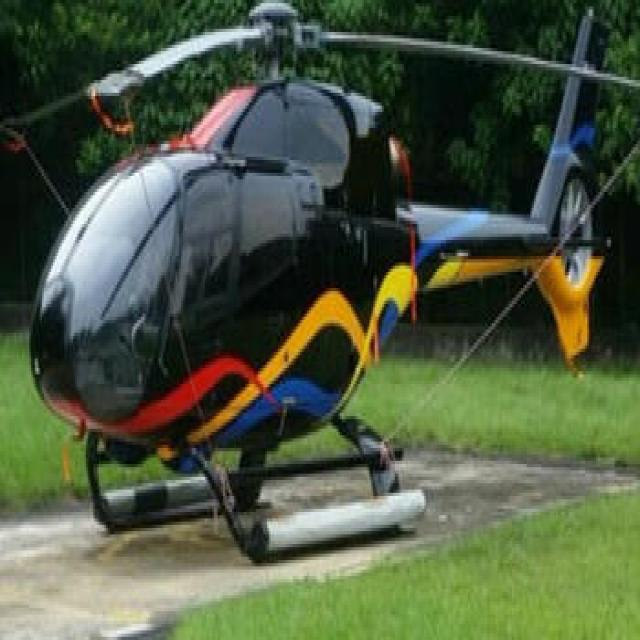helicopter: (20, 4, 636, 574)
